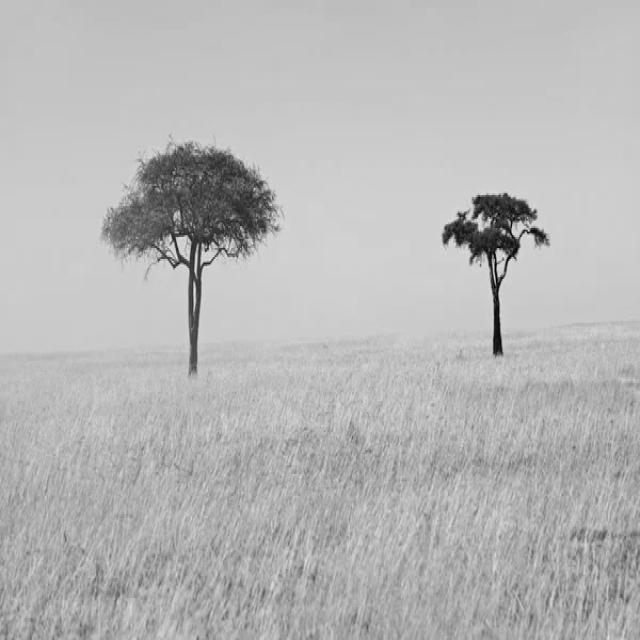Tree: (102, 142, 280, 375), (444, 193, 550, 355)
